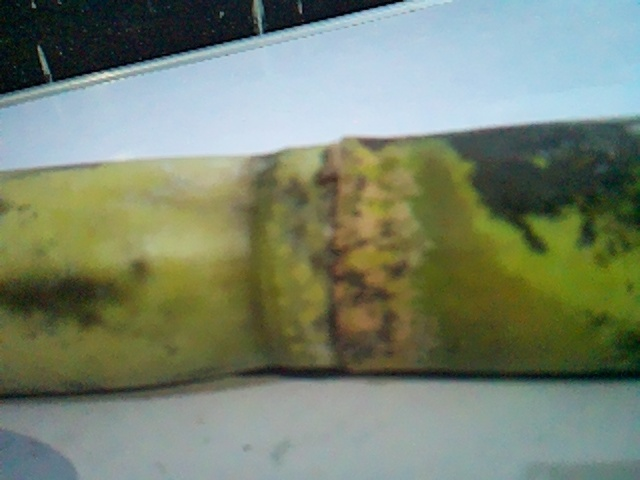Good Sugarcane: (0, 109, 635, 400)
Node: (225, 132, 435, 377)
